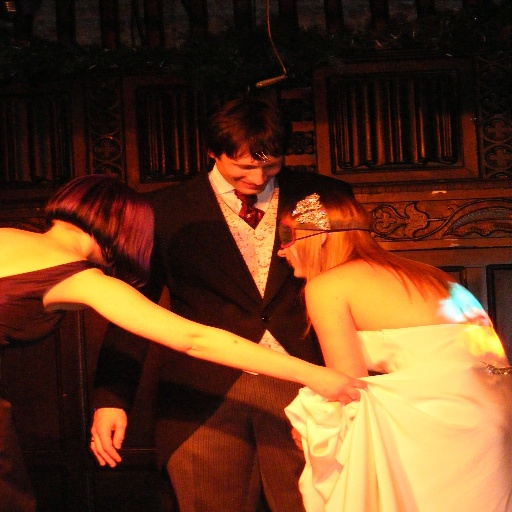hand: (84, 407, 128, 472), (306, 365, 373, 405), (290, 428, 303, 452)
